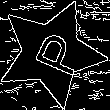P_NW: (20, 26, 82, 80)
